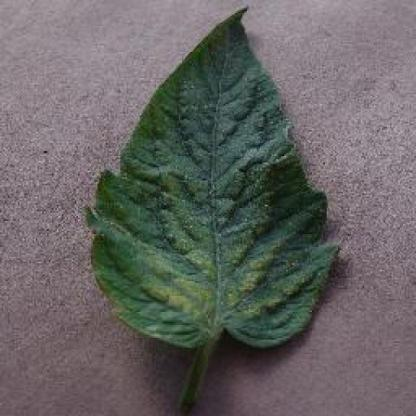Strawberry_Blossom_Blight: (152, 208, 206, 252), (278, 253, 320, 285)
